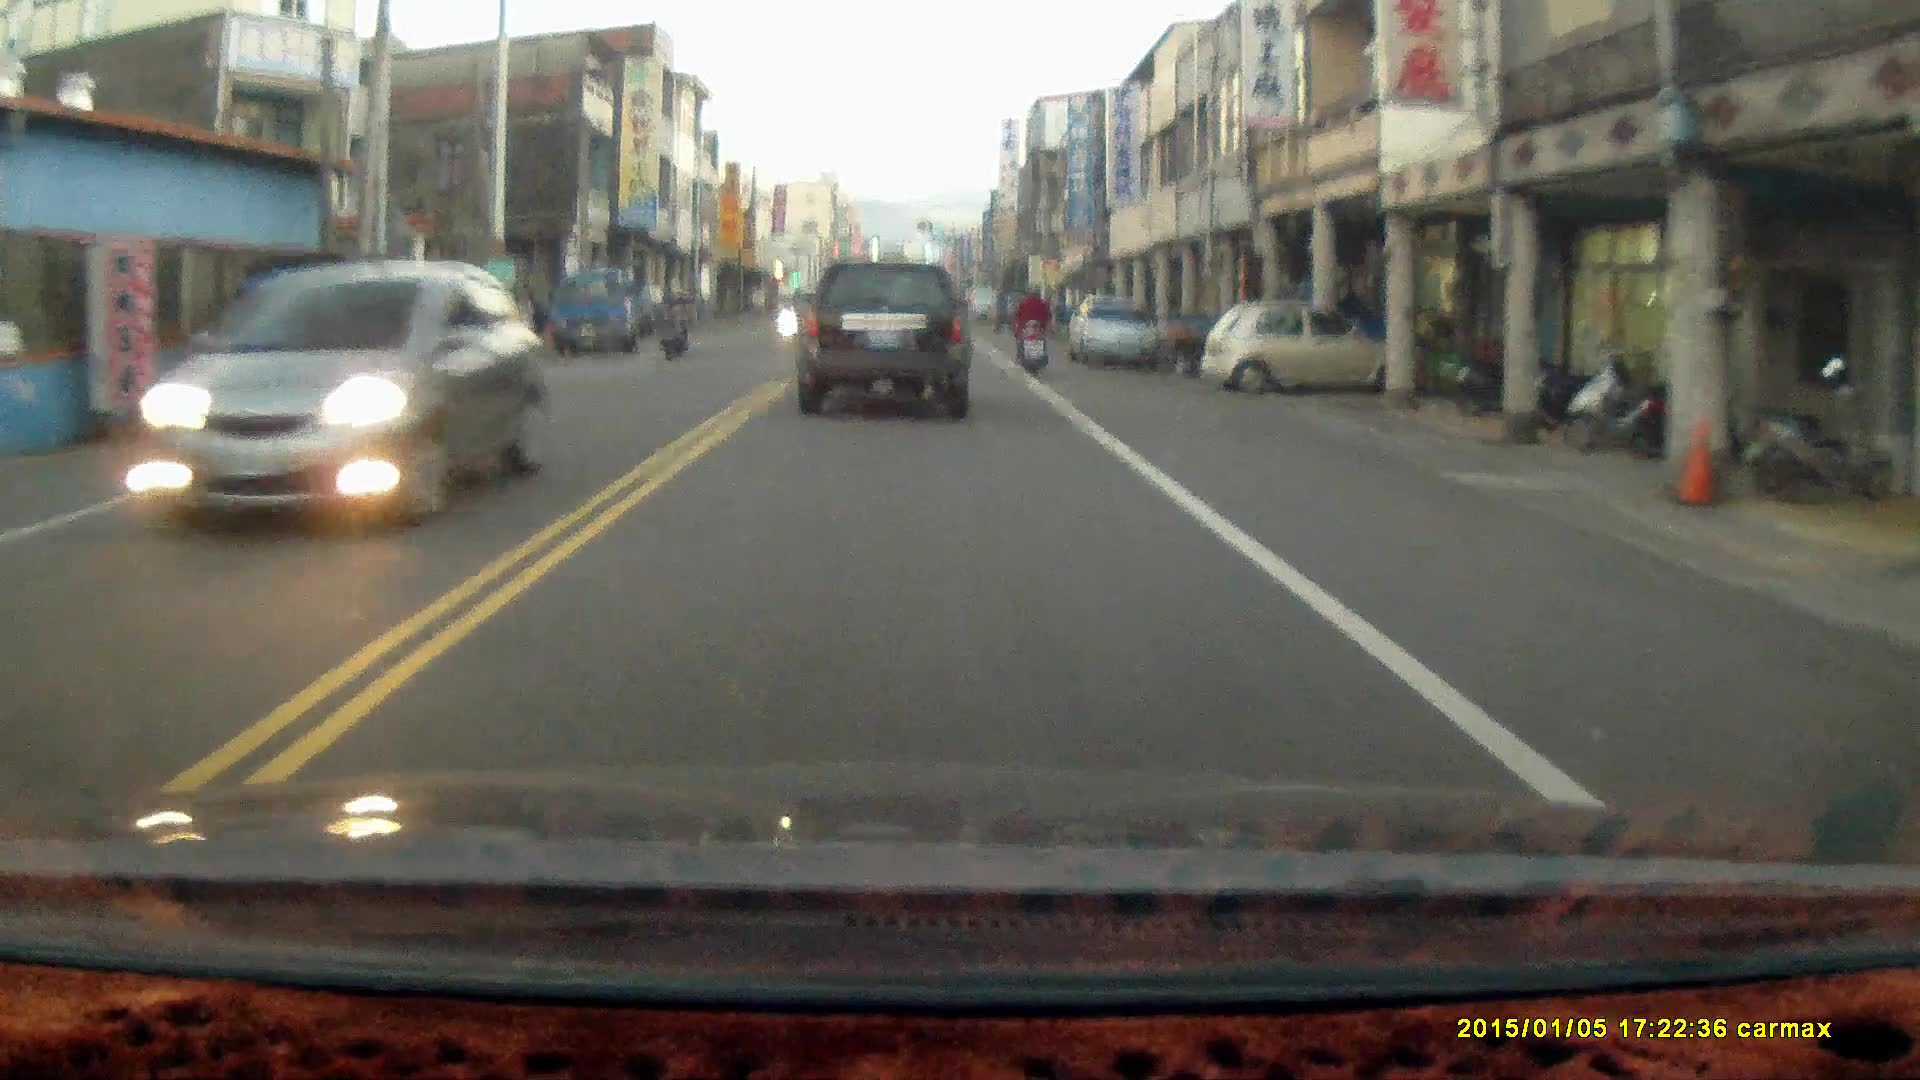pedestrian: (508, 282, 545, 371)
rider: (1012, 280, 1051, 377), (653, 278, 687, 358)
vehicle: (125, 261, 548, 541), (793, 252, 974, 422), (1206, 301, 1417, 396), (552, 266, 671, 357), (1069, 299, 1166, 370)
